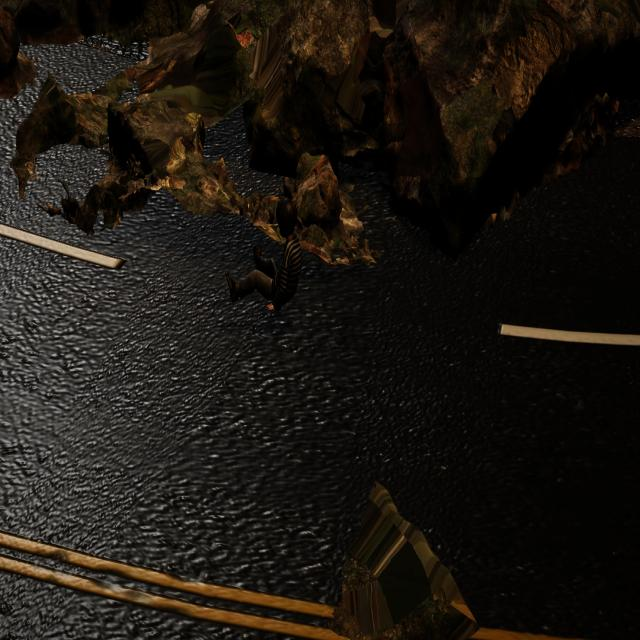Human: (223, 195, 308, 321)
